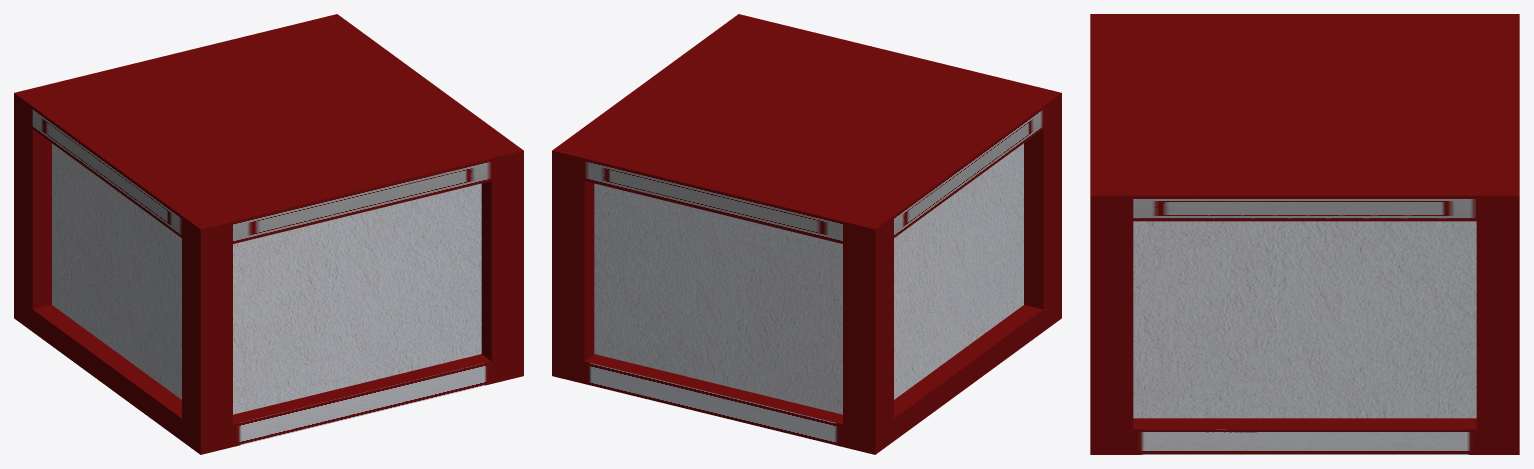
File: pictobox.fbx
3 views of the same model, side by side, from view 1: azimuth 30°, elevation 25°; view 2: azimuth 150°, elevation 25°; view 3: azimuth 270°, elevation 25° (orthographic). The views are drawn at different scales.
Visible parts, largest first — view 1: pCube6; view 2: pCube6; view 3: pCube6.
Part boxes in pixels (x1,y1,x2,y2): pCube6: (14, 14, 523, 454); pCube6: (552, 14, 1061, 454); pCube6: (1090, 14, 1519, 454).
Size of the model in its own units: 300 by 200 by 300.
1 material, 1 textured.
